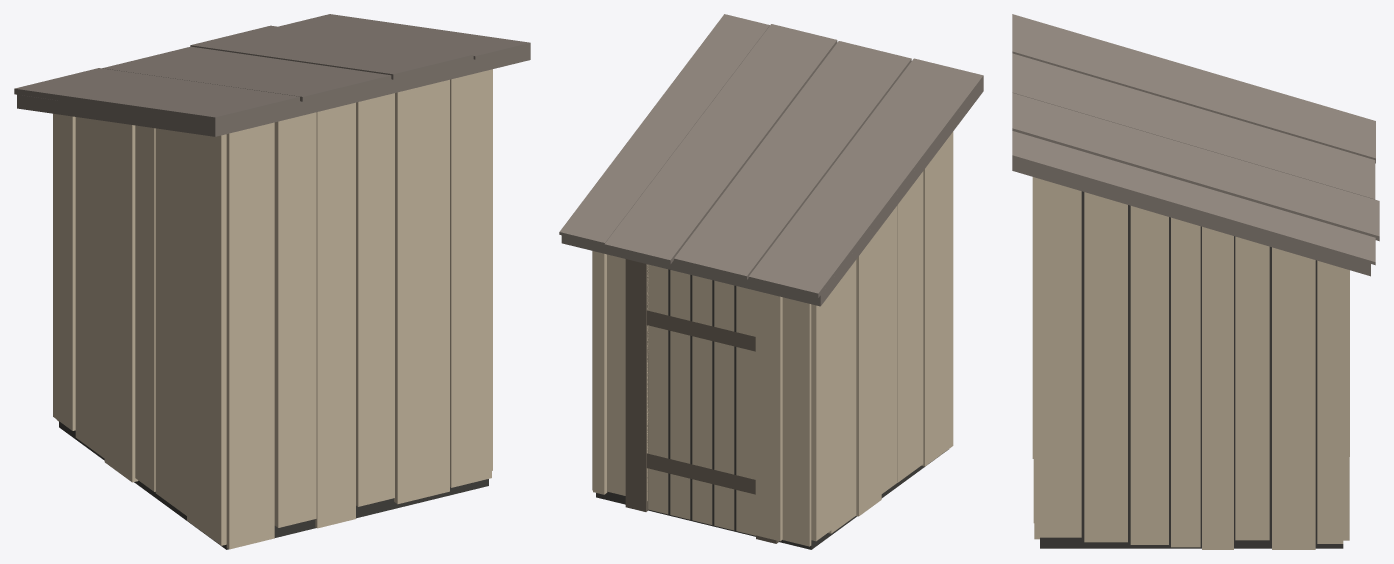
The model's file is recon_1835_blk_randolph_market_a3_05__inferred_1835.glb.
3 views of the same model, side by side, from view 1: azimuth 30°, elevation 25°; view 2: azimuth 150°, elevation 25°; view 3: azimuth 270°, elevation 25° (orthographic). The views are drawn at different scales.
Visible parts, largest first — view 1: recon_1835_blk_randolph_market_a3_05__inferred_1835; view 2: recon_1835_blk_randolph_market_a3_05__inferred_1835; view 3: recon_1835_blk_randolph_market_a3_05__inferred_1835.
Part boxes in pixels (x1,y1,x2,y2): recon_1835_blk_randolph_market_a3_05__inferred_1835: [14, 14, 530, 549]; recon_1835_blk_randolph_market_a3_05__inferred_1835: [559, 14, 983, 549]; recon_1835_blk_randolph_market_a3_05__inferred_1835: [1012, 14, 1379, 549].
Size of the model in its own units: 2.03 by 2.77 by 2.26.
